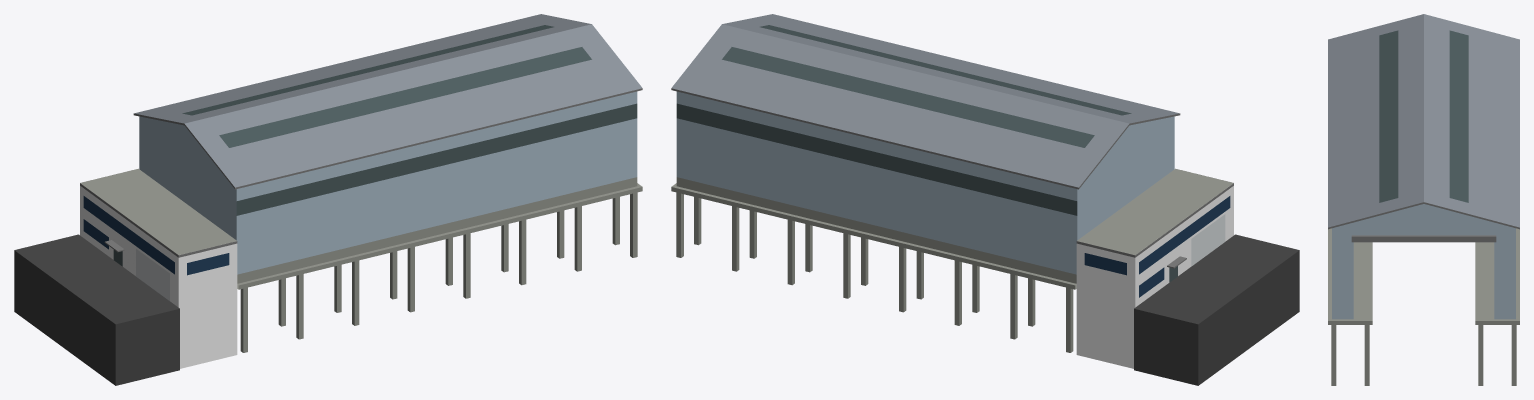
The model's file is top-prebuilt.fbx.
3 views of the same model, side by side, from view 1: azimuth 30°, elevation 25°; view 2: azimuth 150°, elevation 25°; view 3: azimuth 270°, elevation 25° (orthographic). The views are drawn at different scales.
Visible parts, largest first — view 1: a1092/0/top-prebuilt; view 2: a1092/0/top-prebuilt; view 3: a1092/0/top-prebuilt.
Part boxes in pixels (x1,y1,x2,y2): a1092/0/top-prebuilt: [14, 14, 642, 385]; a1092/0/top-prebuilt: [671, 14, 1299, 385]; a1092/0/top-prebuilt: [1328, 14, 1519, 385].
Size of the model in its own units: 90 by 32 by 30.
